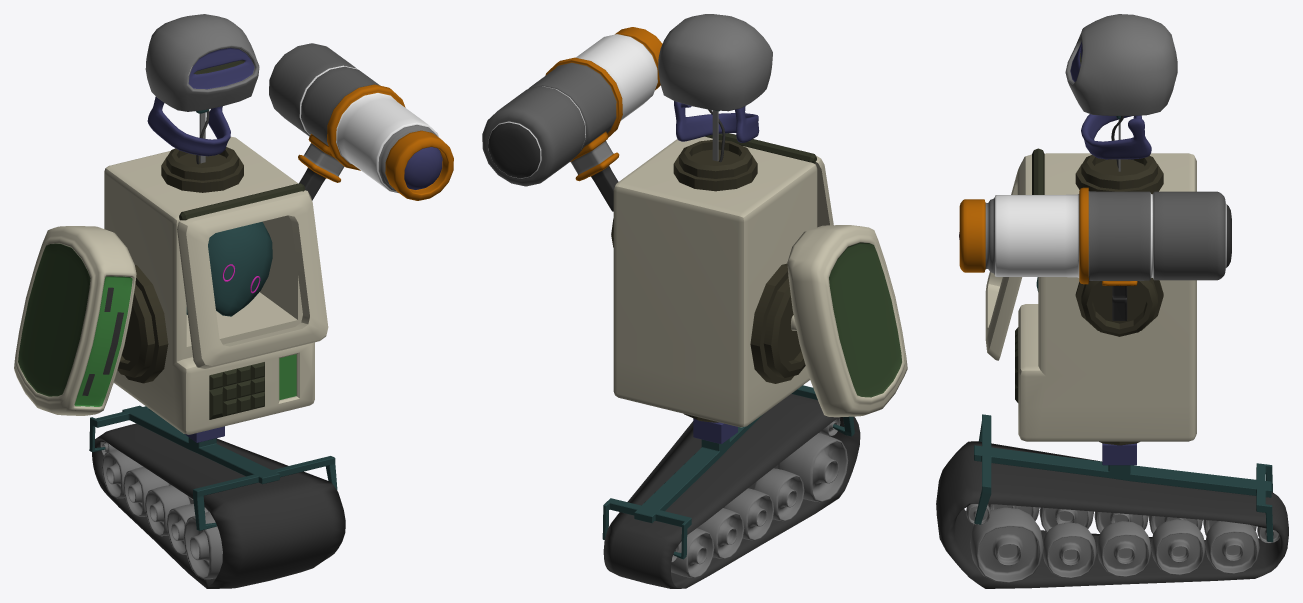
The model's file is npcRobo12.fbx.
3 renders of one model, left to right at view 1: azimuth 30°, elevation 25°; view 2: azimuth 150°, elevation 25°; view 3: azimuth 270°, elevation 25°, orthographic. The views are drawn at different scales.
Parts seen in each view (by area): view 1: npcRobo12; view 2: npcRobo12; view 3: npcRobo12.
Boxes of the visible parts, x1,y1,x2,y2 form: npcRobo12: [14, 14, 453, 588]; npcRobo12: [482, 14, 907, 588]; npcRobo12: [936, 14, 1288, 588].
Bounding box in the file's own units: 111 × 154 × 90.47.
